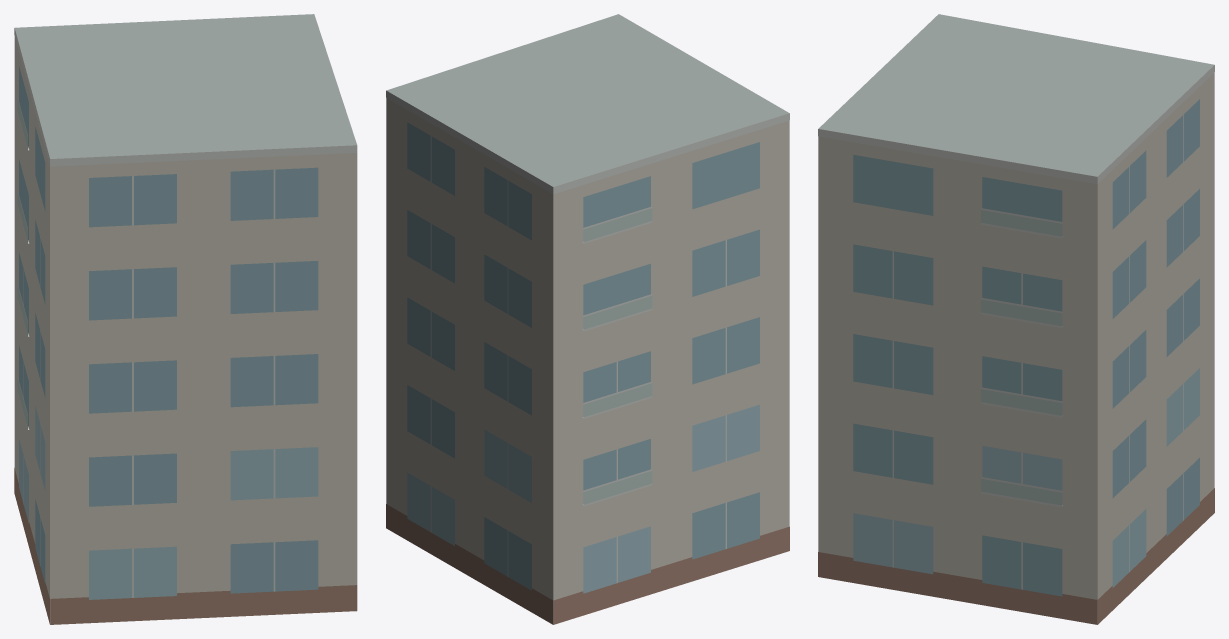
The model's file is survey-upis-32530913.glb.
The picture shows the model from 3 angles, left to right: view 1: azimuth 30°, elevation 25°; view 2: azimuth 150°, elevation 25°; view 3: azimuth 270°, elevation 25°; orthographic projection. The views are drawn at different scales.
Visible parts, largest first — view 1: survey-upis-32530913.tmp; view 2: survey-upis-32530913.tmp; view 3: survey-upis-32530913.tmp.
Boxes of the visible parts, x1,y1,x2,y2 form: survey-upis-32530913.tmp: (14,14,357,624); survey-upis-32530913.tmp: (386,14,789,624); survey-upis-32530913.tmp: (818,14,1214,624).
Bounding box in the file's own units: 11.62 × 14.9 × 11.96.
